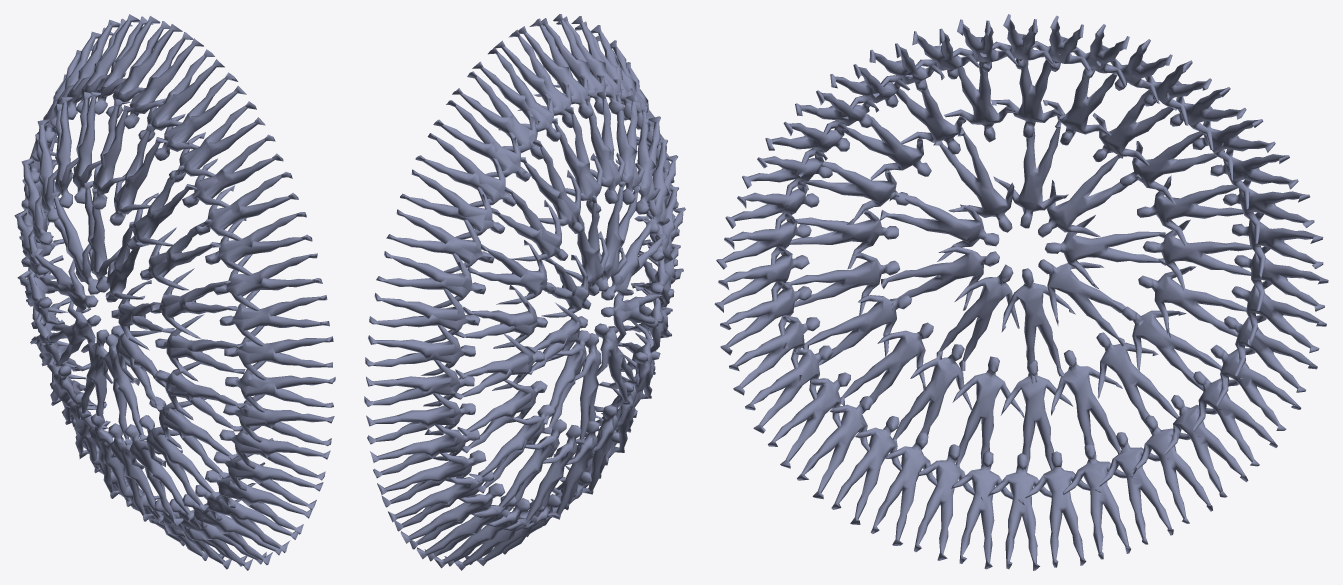
File: eyesman.obj
3 renders of one model, left to right at view 1: azimuth 30°, elevation 25°; view 2: azimuth 150°, elevation 25°; view 3: azimuth 270°, elevation 25°, orthographic. The views are drawn at different scales.
Parts seen in each view (by area): view 1: object_54, object_55, object_56, object_52, object_50, object_53, object_51, object_57, object_58, object_49, object_48, object_21 (+45 smaller); view 2: object_68, object_69, object_70, object_67, object_31, object_65, object_66, object_64, object_63, object_62, object_61, object_14 (+47 smaller); view 3: object_1, object_7, object_6, object_29, object_5, object_30, object_38, object_41, object_27, object_39, object_28, object_9 (+58 smaller).
Boxes of the visible parts, bbox=[...] form: object_54: bbox=[205, 212, 312, 275]; object_55: bbox=[194, 172, 298, 240]; object_56: bbox=[182, 134, 283, 207]; object_52: bbox=[219, 290, 329, 346]; object_50: bbox=[225, 361, 335, 412]; object_53: bbox=[214, 253, 322, 310]; object_51: bbox=[224, 326, 333, 380]; object_57: bbox=[169, 101, 265, 182]; object_58: bbox=[154, 72, 246, 160]; object_49: bbox=[223, 394, 334, 445]; object_48: bbox=[219, 426, 330, 480]; object_21: bbox=[155, 361, 246, 431]; object_68: bbox=[369, 288, 480, 343]; object_69: bbox=[365, 324, 475, 375]; object_70: bbox=[364, 359, 474, 406]; object_67: bbox=[376, 251, 485, 307]; object_31: bbox=[366, 393, 475, 444]; object_65: bbox=[400, 169, 504, 239]; object_66: bbox=[386, 209, 494, 273]; object_64: bbox=[415, 133, 515, 207]; object_63: bbox=[433, 100, 531, 181]; object_62: bbox=[452, 71, 543, 159]; object_61: bbox=[472, 47, 561, 141]; object_14: bbox=[520, 139, 583, 233]; object_1: bbox=[1045, 215, 1165, 288]; object_7: bbox=[936, 264, 1019, 371]; object_6: bbox=[881, 246, 999, 310]; object_29: bbox=[1122, 306, 1221, 390]; object_5: bbox=[880, 192, 999, 261]; object_30: bbox=[1138, 266, 1246, 337]; object_38: bbox=[1063, 443, 1136, 559]; object_41: bbox=[951, 450, 1024, 569]; object_27: bbox=[1051, 350, 1122, 454]; object_39: bbox=[1025, 451, 1100, 567]; object_28: bbox=[1096, 332, 1178, 426]; object_9: bbox=[1038, 259, 1143, 346].
Bounding box in the file's own units: 3271 × 15360 × 15358.
